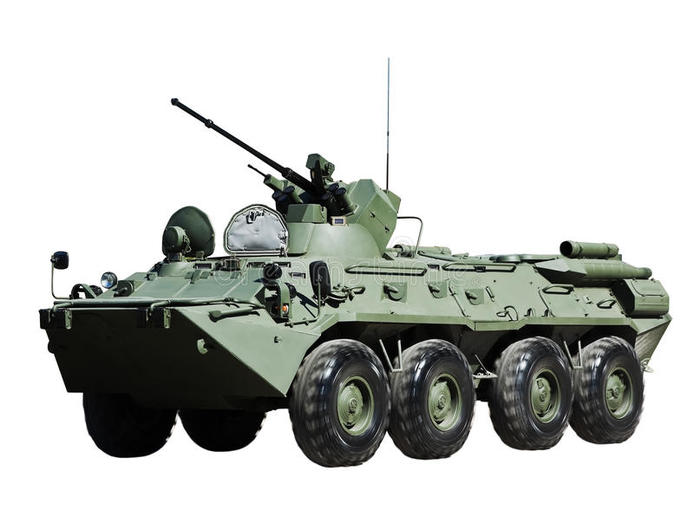btr: (41, 173, 667, 462)
